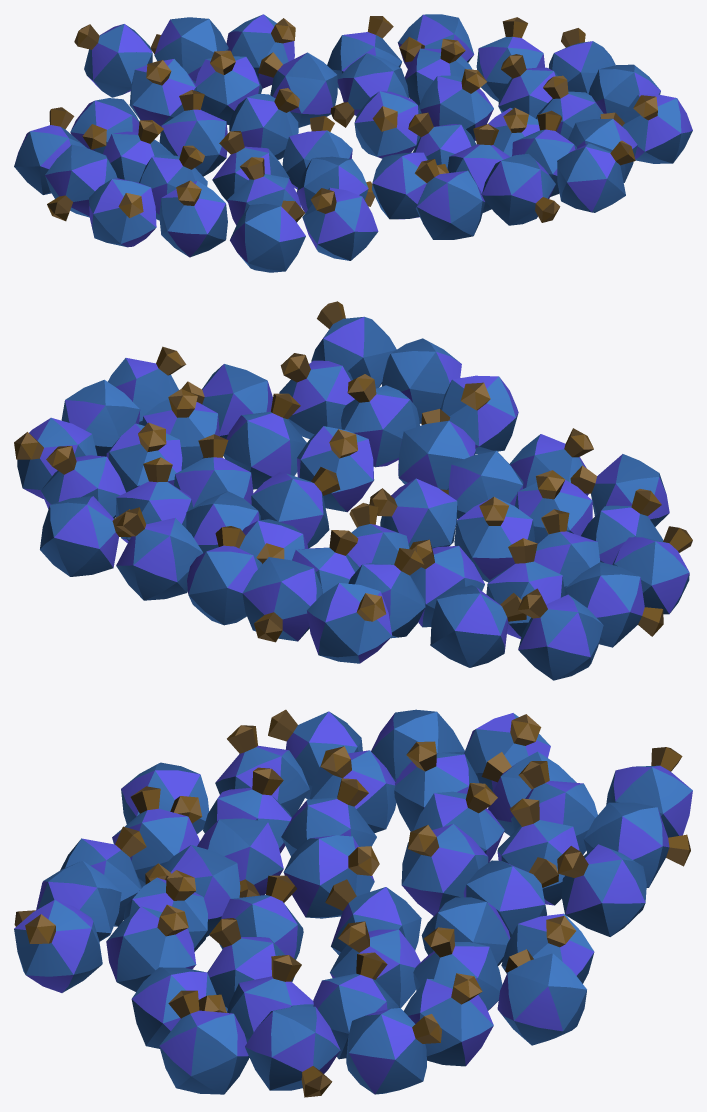
Rendered from berries.fbx.
3 views of the same model, one above another, from view 1: azimuth 30°, elevation 25°; view 2: azimuth 150°, elevation 25°; view 3: azimuth 270°, elevation 25° (orthographic). The views are drawn at different scales.
Parts seen in each view (by area): view 1: pPlatonic15; view 2: pPlatonic15; view 3: pPlatonic15.
Boxes of the visible parts, left/top/right/bottom form: pPlatonic15: left=14, top=14, right=692, bottom=272; pPlatonic15: left=14, top=301, right=692, bottom=680; pPlatonic15: left=14, top=709, right=692, bottom=1097.
Size of the model in its own units: 1179 by 187 by 981.
